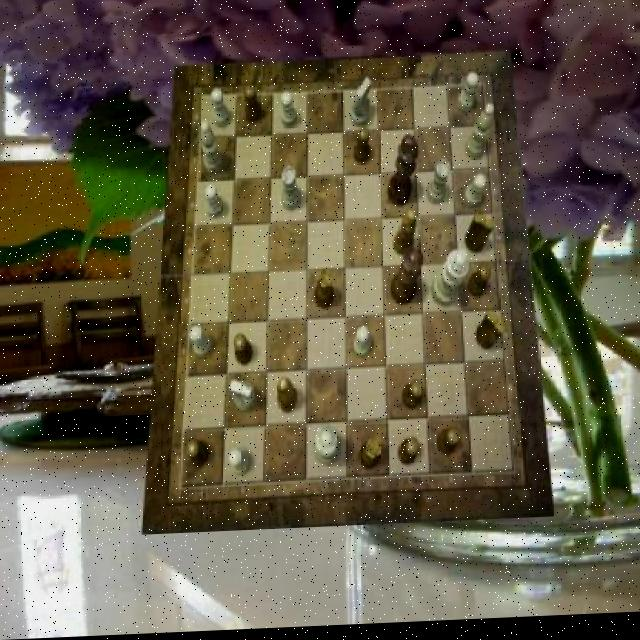bishop: (394, 213, 417, 259), (277, 379, 298, 416)
black-bishop: (388, 138, 420, 211)
black-king: (476, 313, 506, 354), (464, 218, 494, 258)
black-knight: (468, 267, 490, 302), (401, 385, 424, 414), (245, 86, 262, 125), (354, 129, 371, 167), (186, 442, 209, 470), (398, 443, 421, 471), (234, 336, 253, 369), (437, 432, 460, 459)
black-pawn: (391, 250, 424, 309)
black-queen: (360, 440, 383, 474), (314, 273, 334, 312)
black-rook: (464, 108, 494, 163), (201, 123, 224, 177)
white-bishop: (431, 253, 468, 312)
white-king: (351, 81, 372, 131), (230, 382, 258, 415)
white-knight: (457, 77, 478, 118), (464, 178, 488, 213), (191, 326, 214, 360), (211, 90, 230, 131), (204, 186, 223, 221), (229, 450, 252, 478), (282, 94, 298, 131), (354, 328, 371, 361)
white-pawn: (314, 426, 341, 469)
white-queen: (428, 164, 450, 209), (282, 170, 300, 214)
